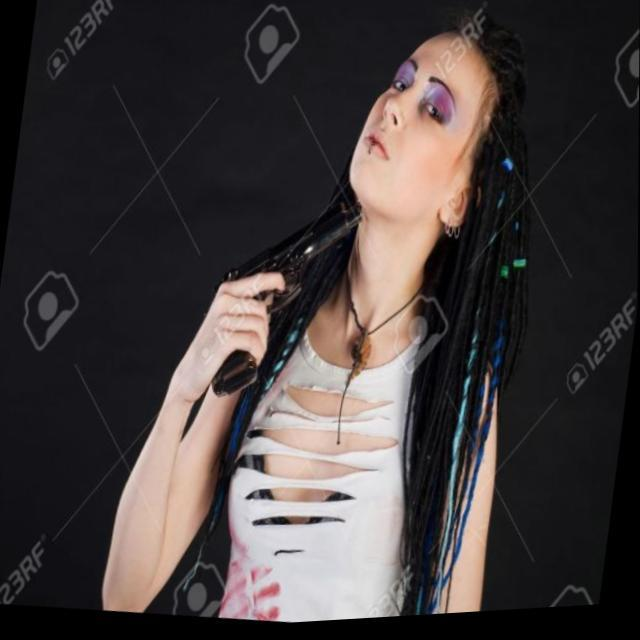weapon: (198, 186, 364, 416)
